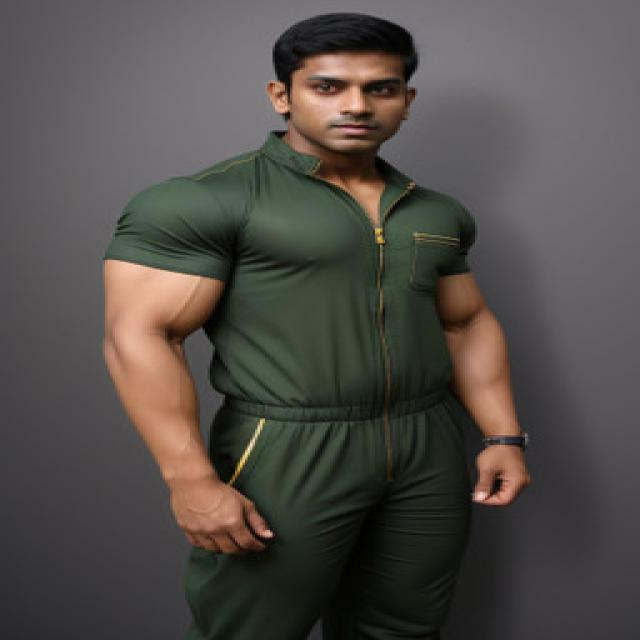Ai human 2: (96, 0, 567, 640)
